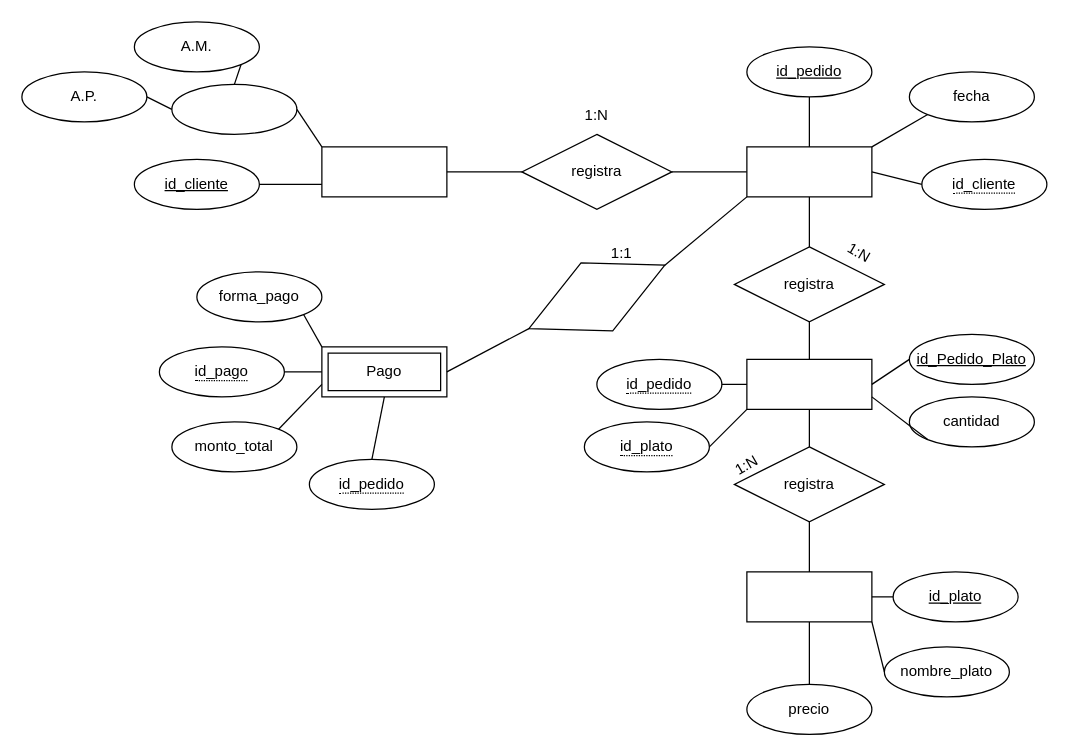
The diagram is 1069 pixels wide and 756 high, and some of its shapes have lost their labels. Each missing label, with the centre of its shape:
Cliente: the point at 384,171
nombre: the point at 234,108
Pedido: the point at 809,171
Pedido_Plato: the point at 809,383
Plato: the point at 809,596
tendrá: the point at 596,296
